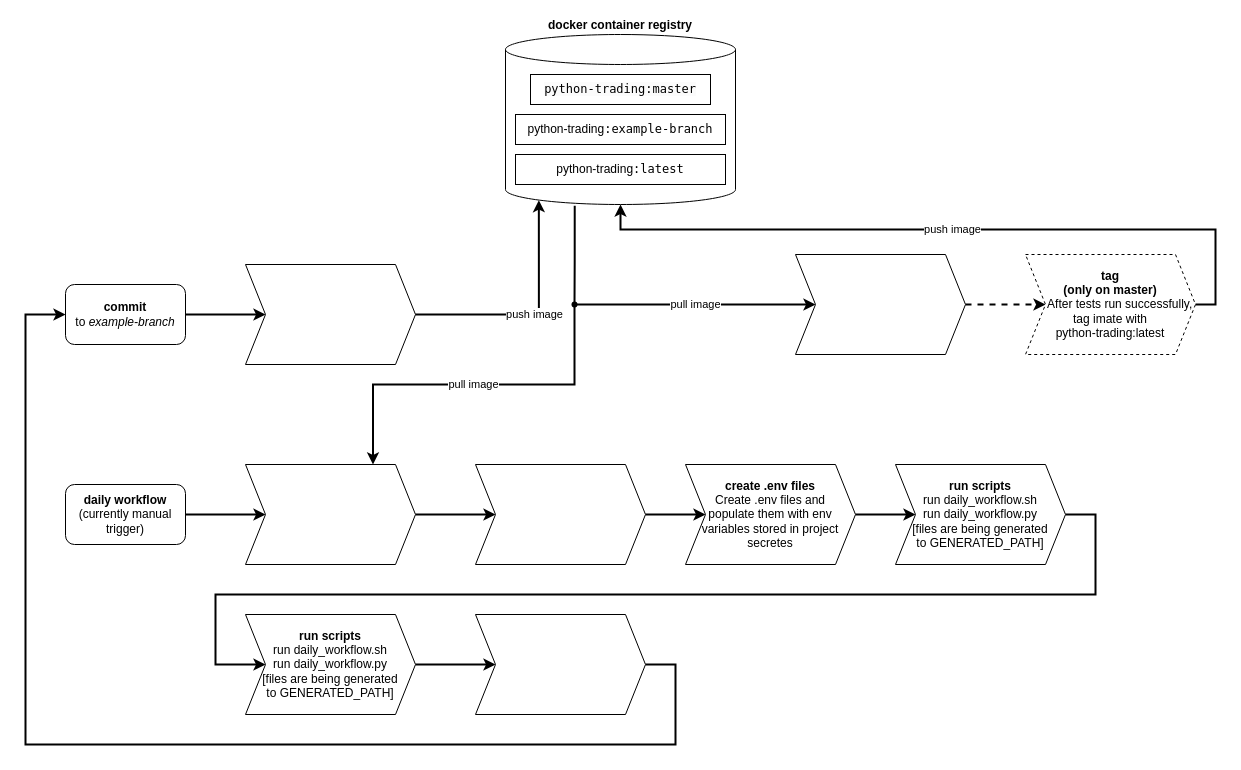
The diagram is 1241 pixels wide and 770 high, and some of its shapes have lost their labels. The centre of each missing label's shape, as x and y in pixels:
"build-and-push Build docker image with tag: example-branch" goes at pixel 330 314.
"checkout repository Checkout and sync with python-trading repo" goes at pixel 560 514.
"commit and push stage, commit and push generated files" goes at pixel 560 664.
"pull image Pull docker image with tag: latest" goes at pixel 330 514.
"test run pytest" goes at pixel 880 304.
